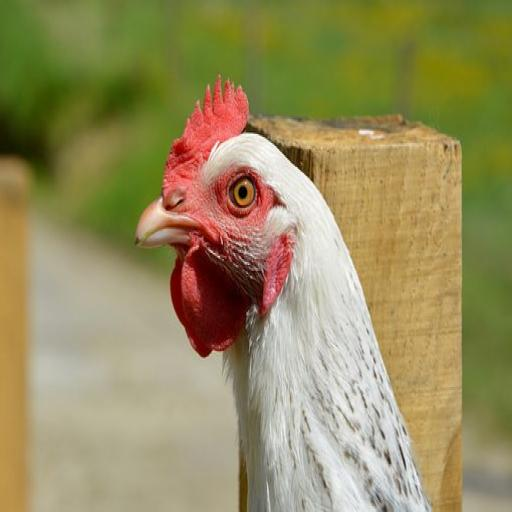healthy: (140, 83, 293, 349)
